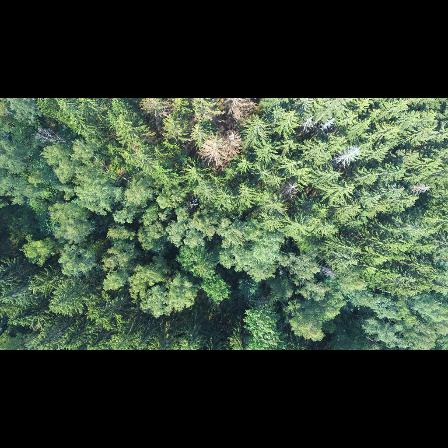Dead: (196, 130, 241, 172), (332, 143, 364, 168), (407, 181, 434, 199), (280, 177, 301, 199), (319, 261, 336, 281), (318, 116, 334, 135)
